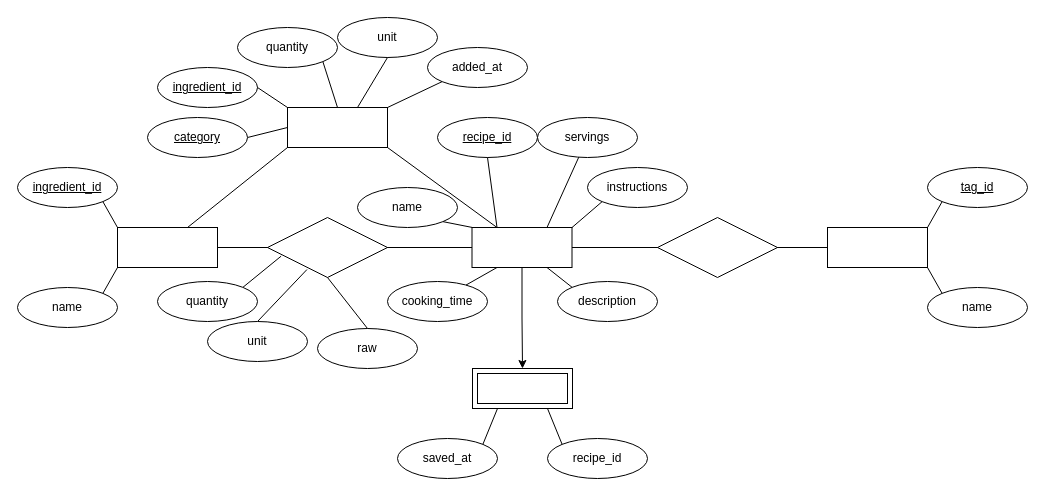
Some shapes in this 1045 by 496 pixel diagram are drawn without their labels. The box of each missing label's shape, as (x1, y1, x2, y2) in pixels:
favorites: (472, 368, 572, 408)
ingredients: (116, 226, 218, 268)
recipe_ingredients: (266, 216, 388, 278)
recipe_tags: (656, 216, 778, 278)
recipes: (471, 226, 572, 268)
storage: (286, 106, 388, 148)
tags: (826, 226, 928, 268)
